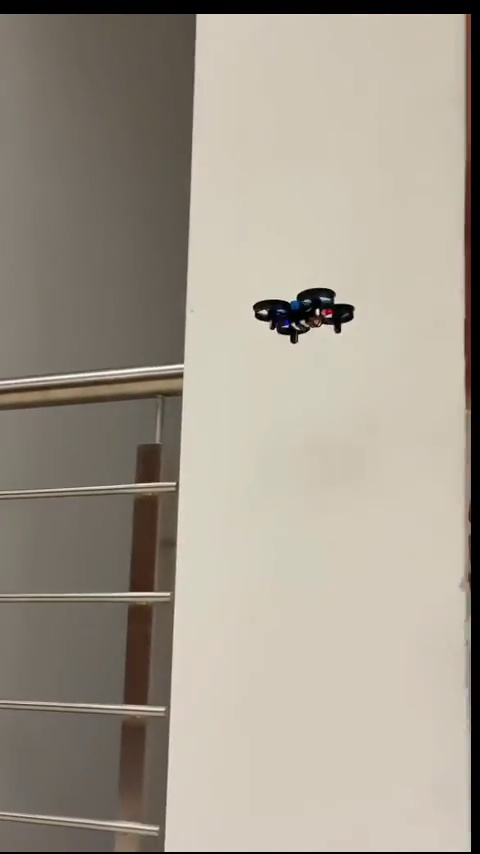drone: (248, 286, 352, 340)
